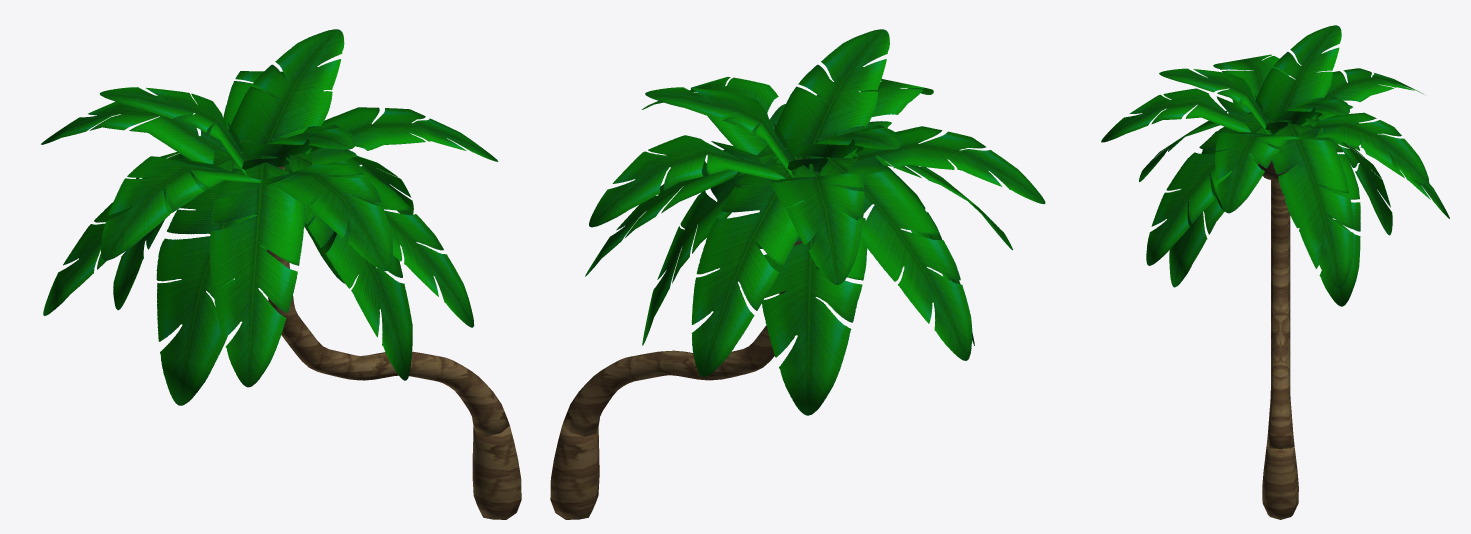
The model's file is PR_Palm_Curve_2.fbx.
3 renders of one model, left to right at view 1: azimuth 30°, elevation 25°; view 2: azimuth 150°, elevation 25°; view 3: azimuth 270°, elevation 25°, orthographic. The views are drawn at different scales.
Parts seen in each view (by area): view 1: Palm Leaf.028, Palm Leaf.029, Palm Leaf.030, Palm Leaf.031, Plane.012, Plane.017; view 2: Palm Leaf.028, Palm Leaf.029, Palm Leaf.030, Palm Leaf.031, Plane.012, Plane.017; view 3: Palm Leaf.028, Palm Leaf.029, Palm Leaf.031, Palm Leaf.030, Plane.012, Plane.017.
Boxes of the visible parts, x1,y1,x2,y2 form: Palm Leaf.028: (43, 137, 474, 387); Palm Leaf.029: (41, 71, 498, 271); Palm Leaf.030: (113, 149, 412, 405); Palm Leaf.031: (99, 29, 355, 176); Plane.012: (267, 249, 509, 436); Plane.017: (472, 426, 521, 519); Palm Leaf.028: (585, 136, 1012, 376); Palm Leaf.029: (589, 77, 1045, 284); Palm Leaf.030: (642, 157, 974, 415); Palm Leaf.031: (645, 29, 901, 177); Plane.012: (562, 240, 802, 436); Plane.017: (550, 425, 599, 519); Palm Leaf.028: (1139, 106, 1449, 288); Palm Leaf.029: (1101, 54, 1429, 213); Palm Leaf.031: (1159, 25, 1349, 134); Palm Leaf.030: (1169, 111, 1392, 306); Plane.012: (1266, 180, 1294, 448); Plane.017: (1262, 446, 1298, 519).
Bounding box in the file's own units: 2271 × 2223 × 2027.
